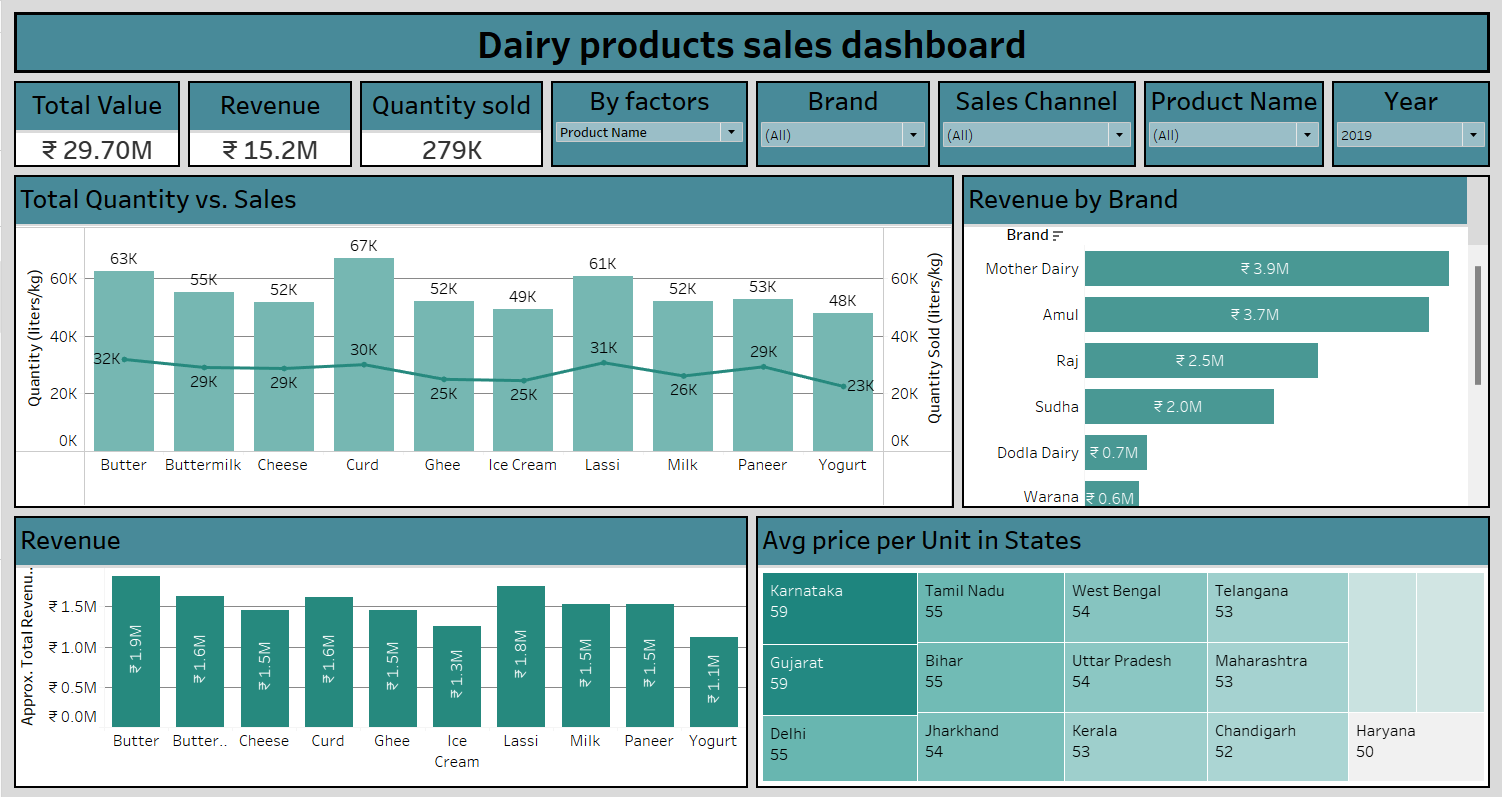

The dashboard page shown, as its layout file describes it:
{"tool":"tableau","page":{"name":"FINAL DASHBOARD","canvas":[1500,800],"ordinal":3},"visuals":[{"type":"text","box":[8,8,1484,69]},{"type":"worksheet","title":"Revenue (2)","mark":"Automatic","box":[8,77,174,94]},{"type":"worksheet","title":"Revenue","mark":"Automatic","box":[182,77,172,94]},{"type":"worksheet","title":"Quantity solds","mark":"Automatic","box":[354,77,191,94]},{"type":"parameter","param":"[Parameters].[Parameter 2]","box":[545,77,205,94]},{"type":"filter","title":"Quantity sales Vs ALL","param":"[federated.1gpvdz30i68cz017v2v6c0ncqbdl].[none:Brand:nk]","box":[750,77,182,94]},{"type":"filter","title":"Quantity solds","param":"[federated.1gpvdz30i68cz017v2v6c0ncqbdl].[none:Sales Channel:nk]","box":[932,77,206,94]},{"type":"filter","title":"Scatter (2)","param":"[federated.1gpvdz30i68cz017v2v6c0ncqbdl].[none:Product Name:nk]","box":[1138,77,188,94]},{"type":"filter","title":"Quantity sales Vs ALL","param":"[federated.1gpvdz30i68cz017v2v6c0ncqbdl].[yr:Date:ok]","box":[1326,77,166,94]},{"type":"worksheet","title":"Quantity sales Vs ALL","mark":"Line","rows":["Quantity (liters/kg)","Quantity Sold (liters/kg)"],"cols":["Calculation_1475210365638332418"],"box":[8,171,948,341]},{"type":"worksheet","title":"Sale by Brand","mark":"Automatic","rows":["Brand"],"cols":["Approx. Total Revenue(INR)"],"box":[956,171,536,341]},{"type":"worksheet","title":"Revenue Vs ALL","mark":"Bar","rows":["Approx. Total Revenue(INR)"],"cols":["Calculation_1475210365638332418"],"box":[8,512,742,280]},{"type":"worksheet","title":"Scatter (2)","mark":"Automatic","box":[750,512,742,280]}]}

Visuals, with their boxes in screenshot pixels (x1, y1, x2, y2), scaled from the page's 1500x800 canvas onto the 1502x797 screenshot:
text: {"left": 8, "top": 8, "right": 1494, "bottom": 77}
"Revenue (2)" worksheet: {"left": 8, "top": 77, "right": 182, "bottom": 170}
"Revenue" worksheet: {"left": 182, "top": 77, "right": 354, "bottom": 170}
"Quantity solds" worksheet: {"left": 354, "top": 77, "right": 546, "bottom": 170}
parameter: {"left": 546, "top": 77, "right": 751, "bottom": 170}
"Quantity sales Vs ALL" filter: {"left": 751, "top": 77, "right": 933, "bottom": 170}
"Quantity solds" filter: {"left": 933, "top": 77, "right": 1140, "bottom": 170}
"Scatter (2)" filter: {"left": 1140, "top": 77, "right": 1328, "bottom": 170}
"Quantity sales Vs ALL" filter: {"left": 1328, "top": 77, "right": 1494, "bottom": 170}
"Quantity sales Vs ALL" worksheet (Line marks): {"left": 8, "top": 170, "right": 957, "bottom": 510}
"Sale by Brand" worksheet: {"left": 957, "top": 170, "right": 1494, "bottom": 510}
"Revenue Vs ALL" worksheet (Bar marks): {"left": 8, "top": 510, "right": 751, "bottom": 789}
"Scatter (2)" worksheet: {"left": 751, "top": 510, "right": 1494, "bottom": 789}
